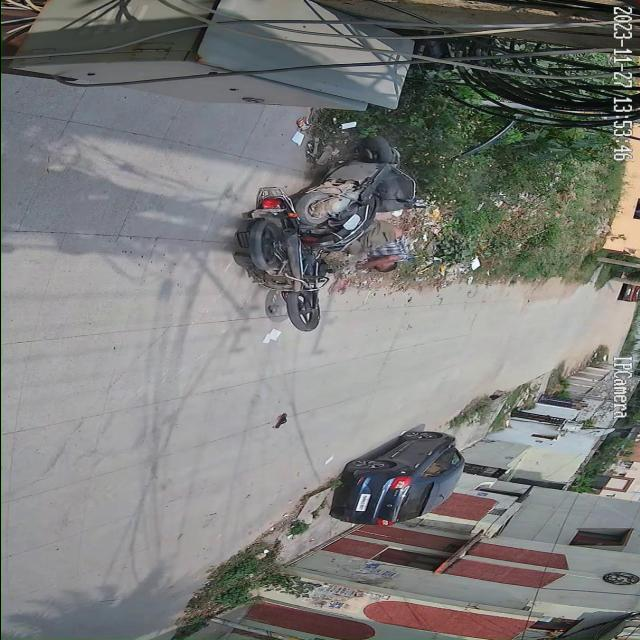accident: (234, 128, 438, 336)
